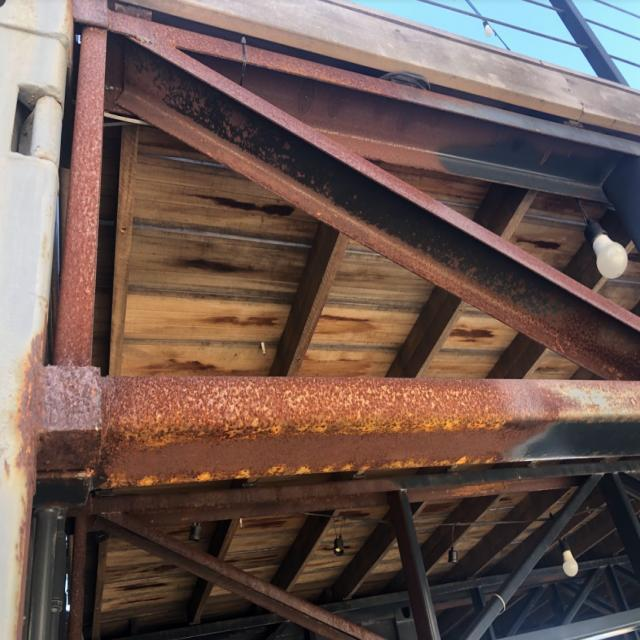Corrosion: (15, 0, 640, 640), (408, 480, 571, 503), (4, 457, 12, 481)
